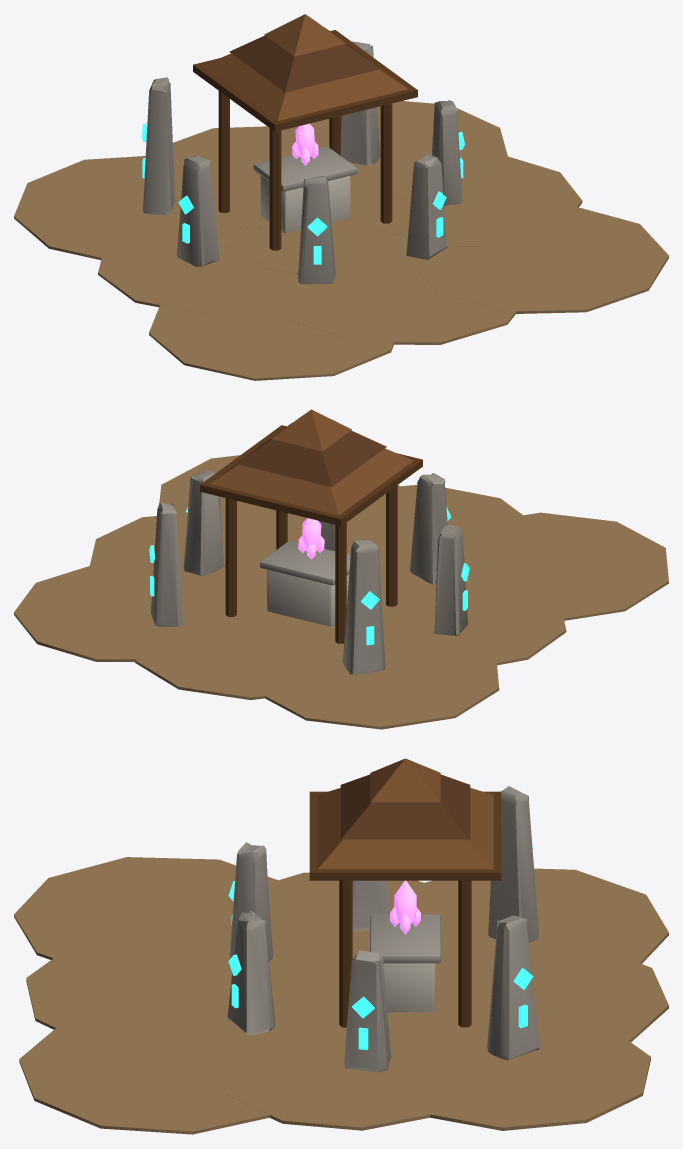
The model's file is budynek_fuzji_poz03.glb.
3 renders of one model, top to bottom at view 1: azimuth 30°, elevation 25°; view 2: azimuth 150°, elevation 25°; view 3: azimuth 270°, elevation 25°, orthographic. The views are drawn at different scales.
Visible parts, largest first — view 1: budynek_fuzji_poz03; view 2: budynek_fuzji_poz03; view 3: budynek_fuzji_poz03.
Part boxes in pixels (x1=…): budynek_fuzji_poz03: x1=14, y1=14, x2=668, y2=380; budynek_fuzji_poz03: x1=14, y1=409, x2=668, y2=729; budynek_fuzji_poz03: x1=14, y1=758, x2=668, y2=1134.
Bounding box in the file's own units: 8.73 × 3.57 × 8.8.
